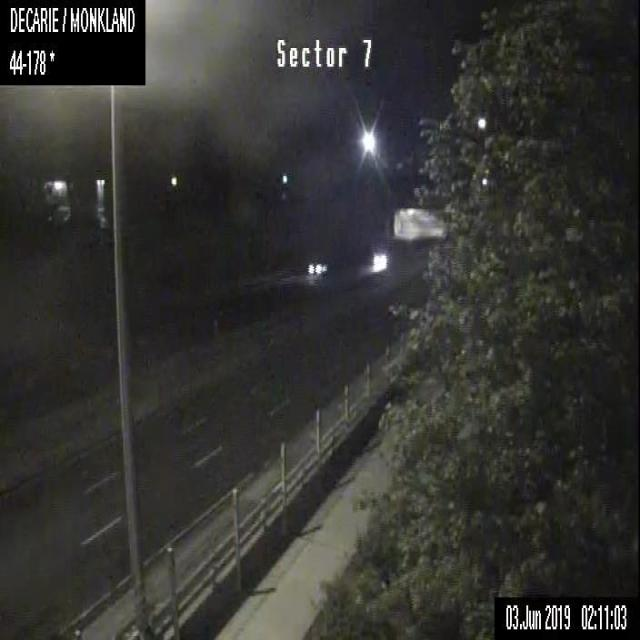vehicle: (369, 251, 388, 272), (306, 260, 328, 275)
